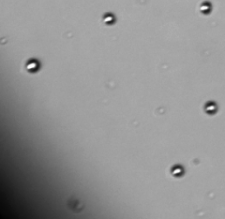Dead Cell: (68, 197, 83, 210)
Living Cell: (25, 58, 41, 72), (102, 12, 116, 24), (171, 165, 185, 177), (205, 101, 218, 113), (200, 2, 211, 13)
